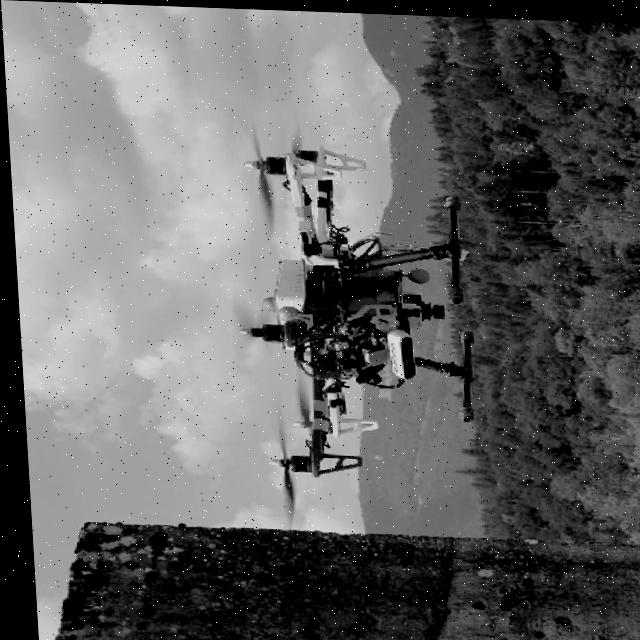drone: (221, 105, 428, 525)
